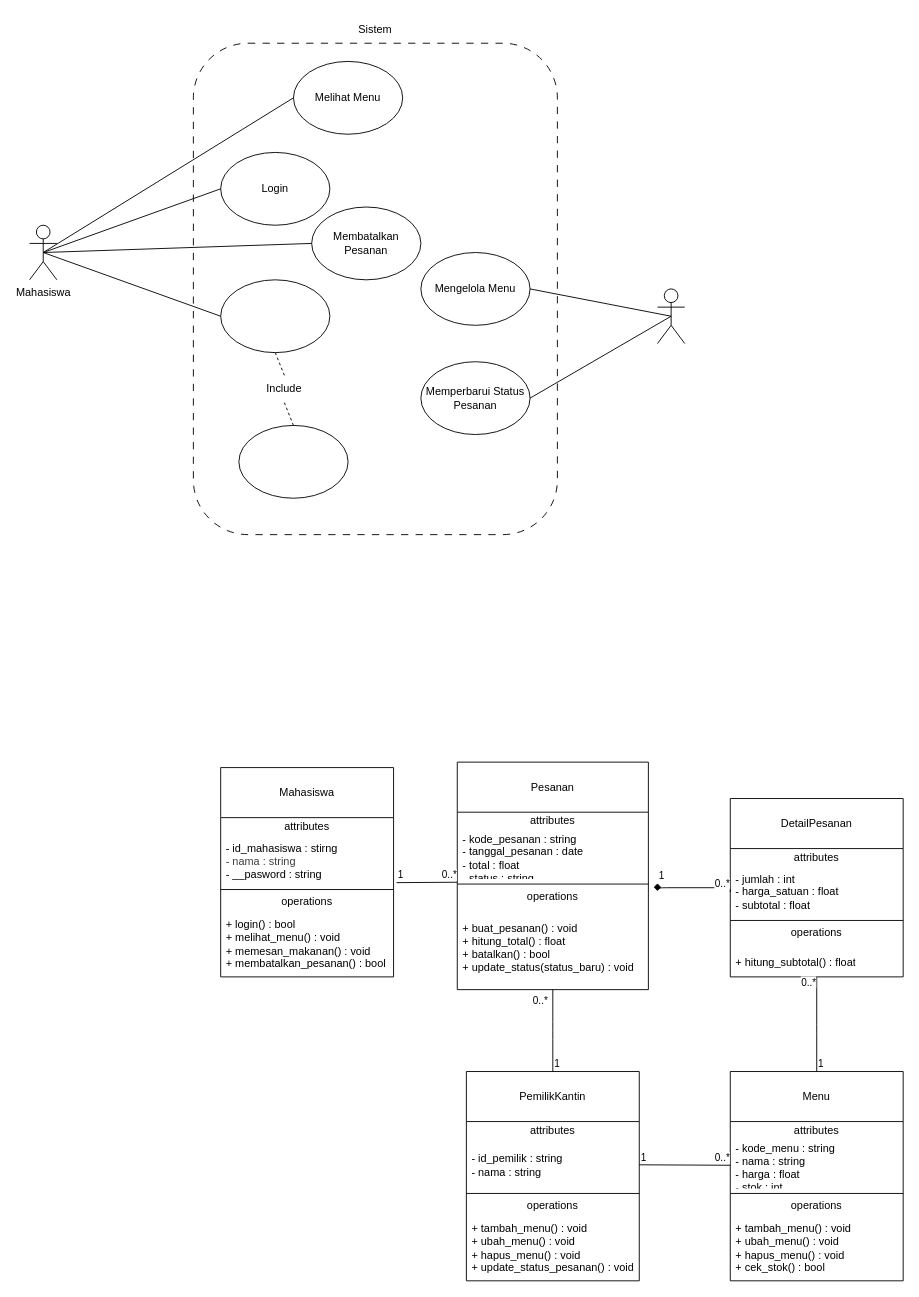
Some shapes in this 919 by 1297 pixel diagram are drawn without their labels. Here are the shapes that lost their labels. From the top down, the centre of each, then its label:
At (x=275, y=316): "Pesan Makanan".
At (x=671, y=316): "Pemilik Kantin".
At (x=293, y=461): "Menghitung Total Harga".
